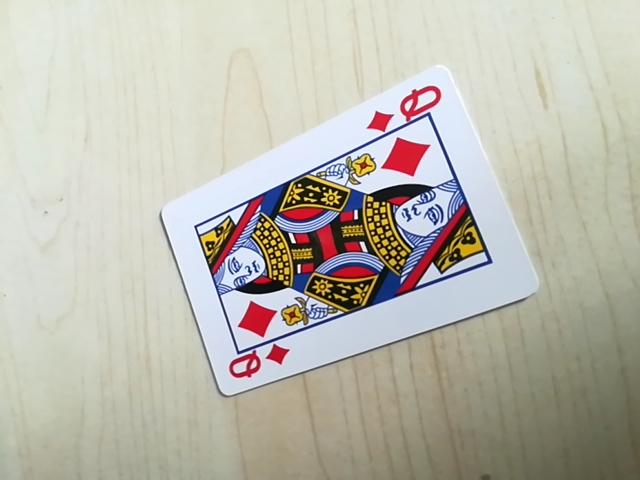fk q: (362, 80, 448, 135), (222, 340, 292, 387)
